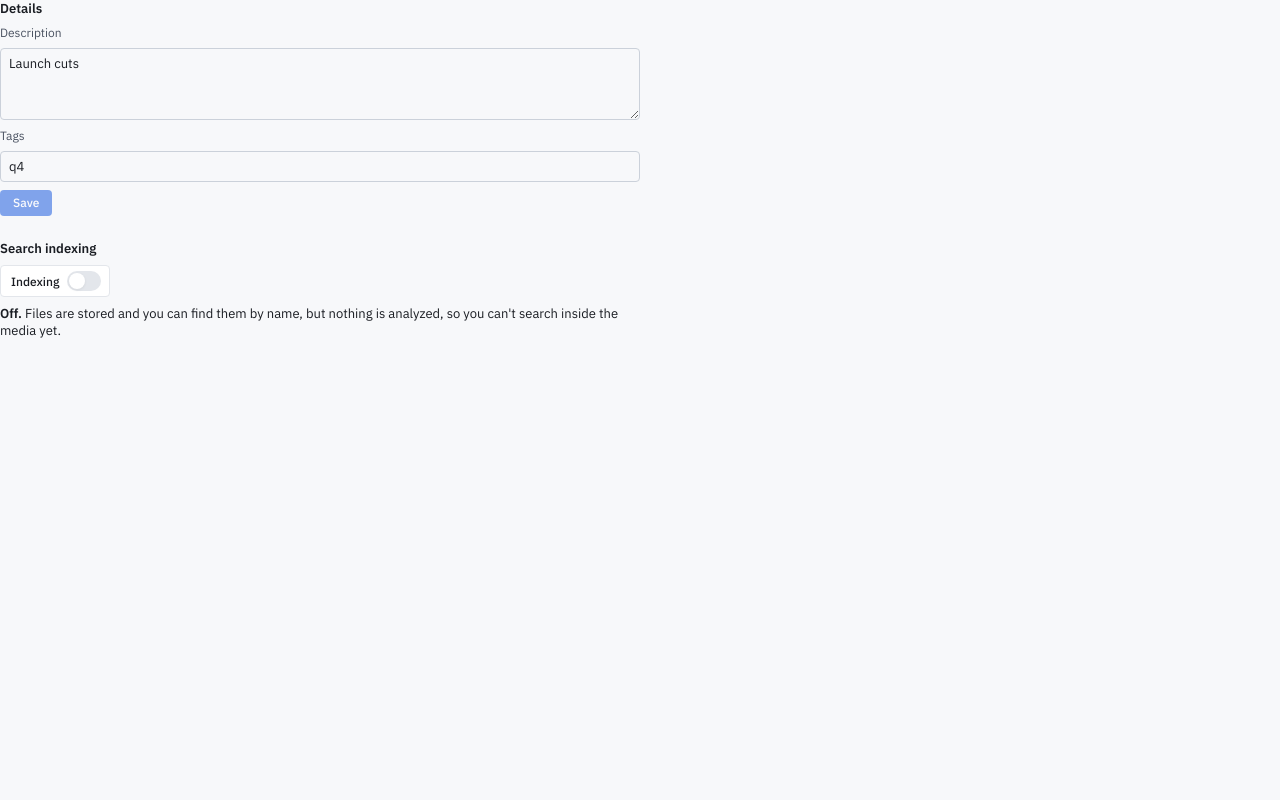
Test: ProjectSettings › turning indexing on asks first, names the stored-file count, and reports what was queued
Expected: the element with test id "indexing-state" shows "Off.", [0,305,22,322]
Click the switch named "Turn on indexing": (55,281) [0,265,110,297]
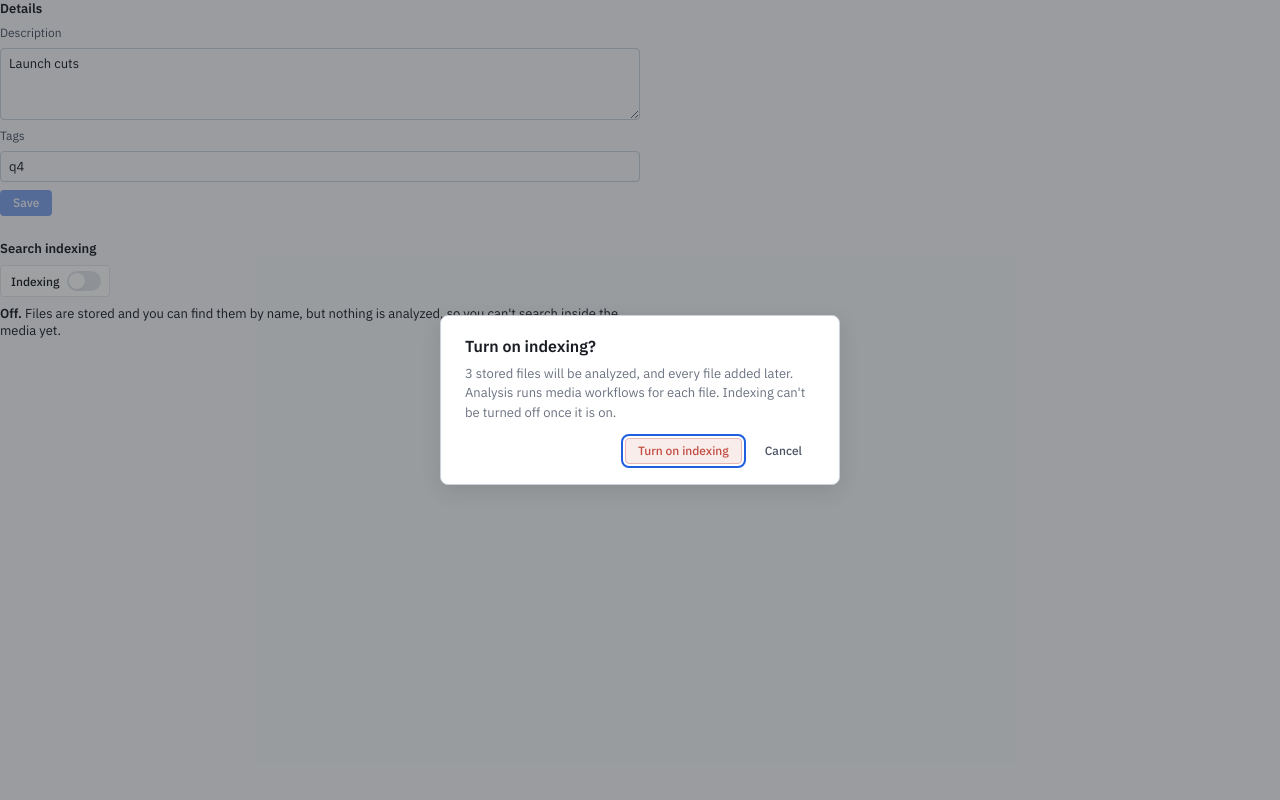
Result: the text "can't be turned off once it is on" is shown at [465,365,805,421]
Click the button "Turn on indexing": (683,451) [625,438,742,464]
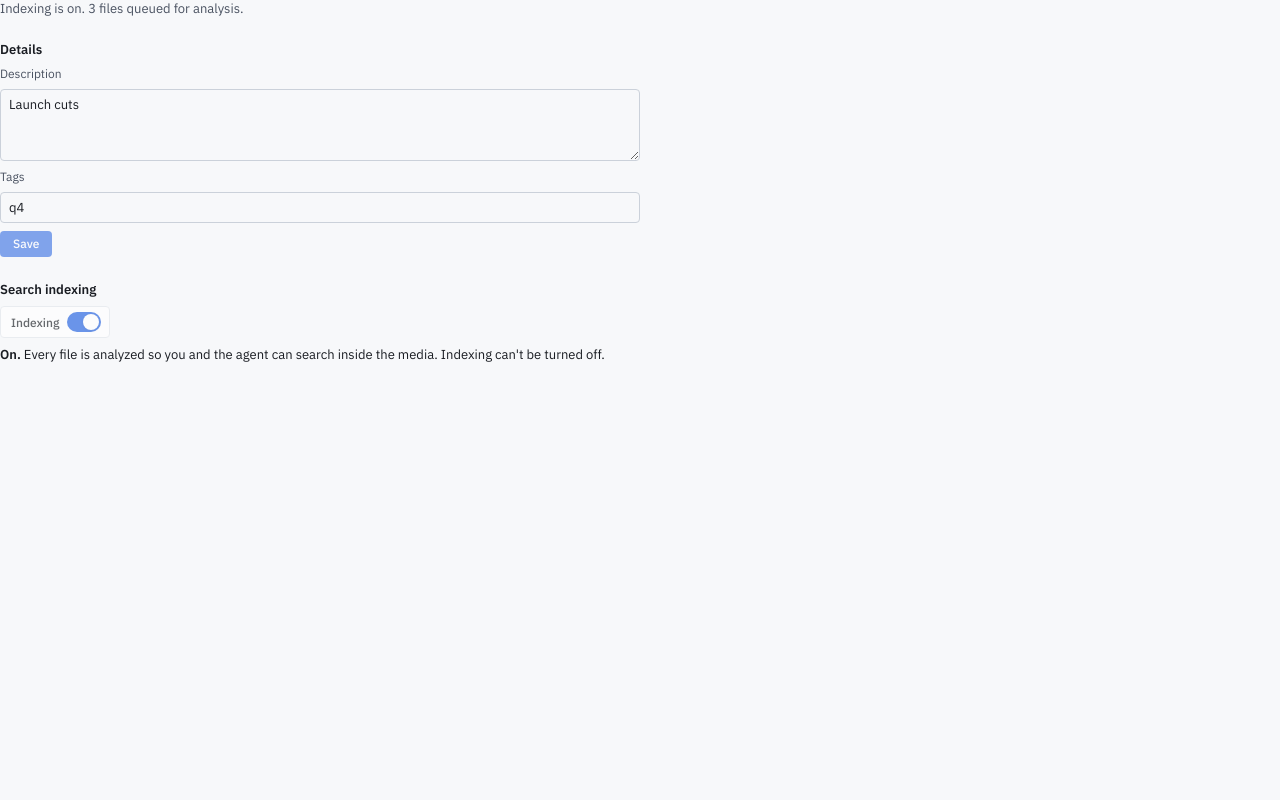
Result: the text "Indexing is on. 3 files queued for analysis." is shown at [0,0,244,17]
Result: the element with test id "indexing-state" shows "On." at [0,346,21,363]
